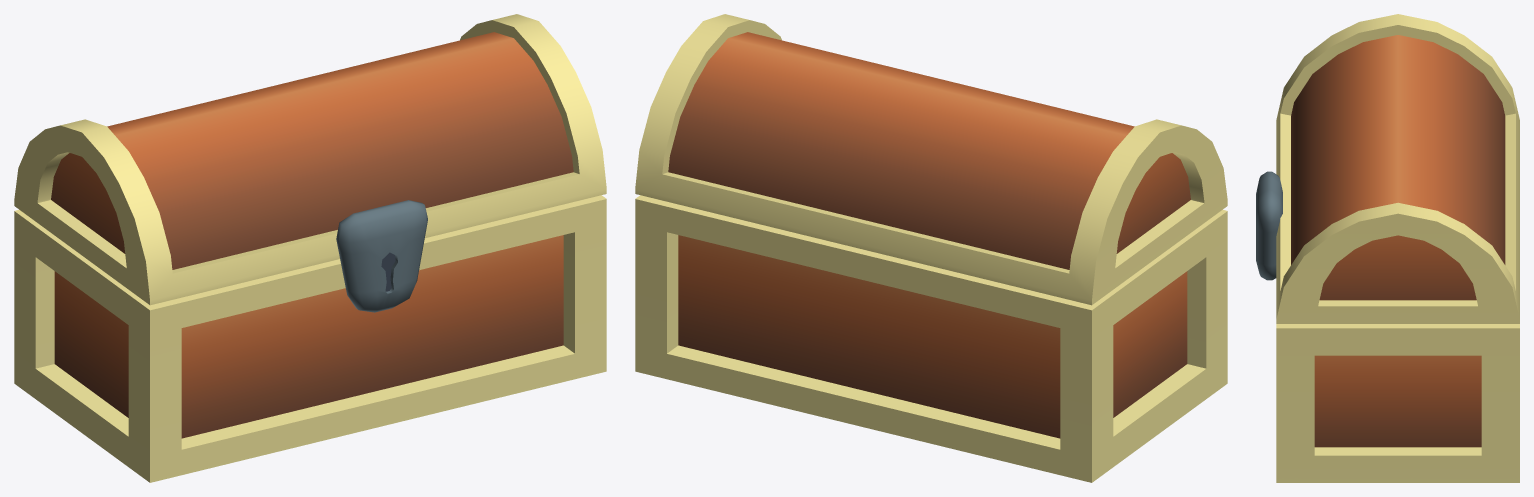
File: Chest.fbx
The picture shows the model from 3 angles, left to right: view 1: azimuth 30°, elevation 25°; view 2: azimuth 150°, elevation 25°; view 3: azimuth 270°, elevation 25°; orthographic projection. The views are drawn at different scales.
Visible parts, largest first — view 1: Chest; view 2: Chest; view 3: Chest.
Part boxes in pixels (x1=…): Chest: x1=14, y1=14, x2=606, y2=482; Chest: x1=635, y1=14, x2=1227, y2=482; Chest: x1=1256, y1=14, x2=1519, y2=482.
Bounding box in the file's own units: 0.7574 × 0.4765 × 0.4229.
